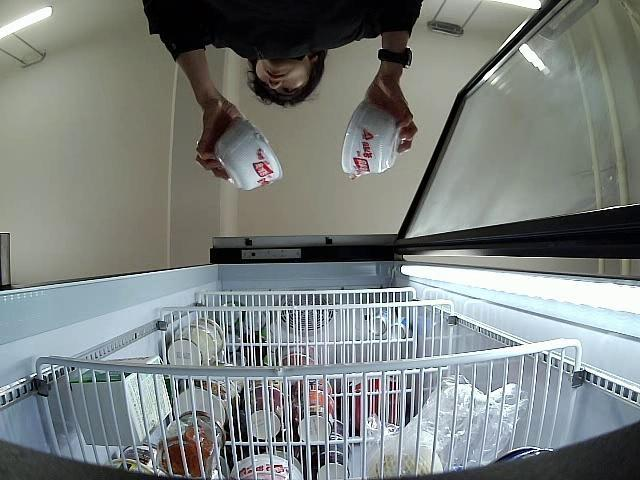09_yukGaeJang: (214, 115, 284, 192), (342, 98, 398, 182)
